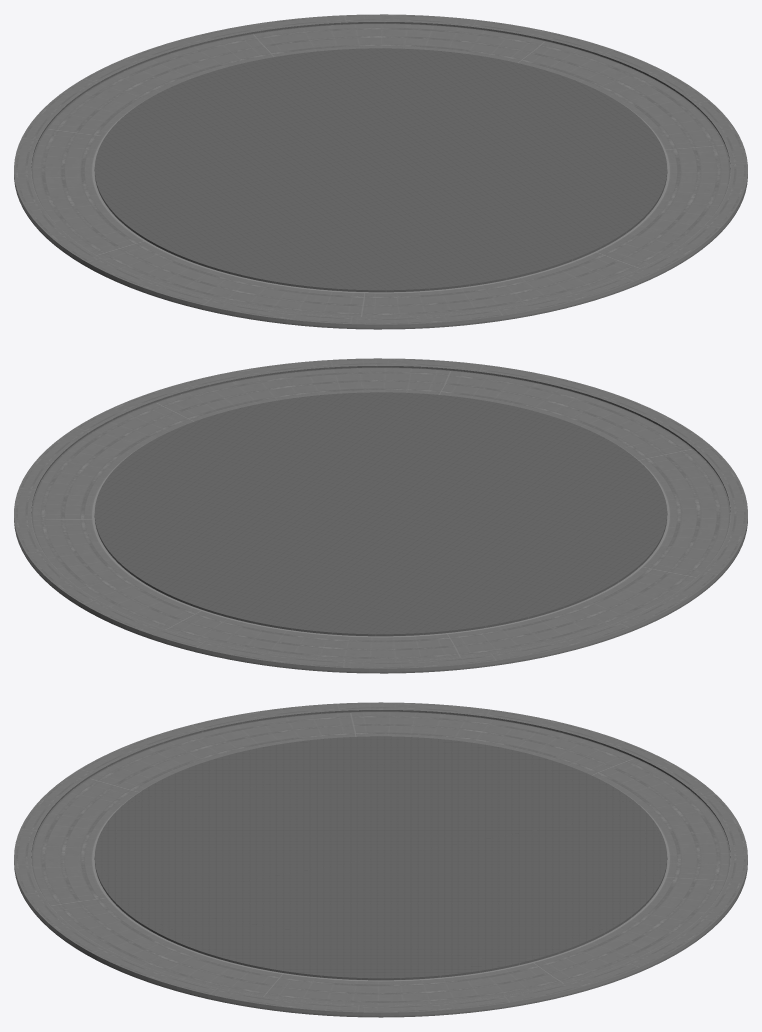
Rendered from SM_landing_pad.glb.
3 renders of one model, top to bottom at view 1: azimuth 30°, elevation 25°; view 2: azimuth 150°, elevation 25°; view 3: azimuth 270°, elevation 25°, orthographic.
Visible parts, largest first — view 1: SM_landing_pad; view 2: SM_landing_pad; view 3: SM_landing_pad.
Part boxes in pixels (<box>): SM_landing_pad: <box>14,14,747,329</box>; SM_landing_pad: <box>14,358,747,673</box>; SM_landing_pad: <box>14,702,747,1017</box>.
Size of the model in its own units: 47.95 by 0.366 by 47.95.
2 materials, 2 textured.
